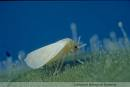whitefly: (23, 37, 87, 76)
